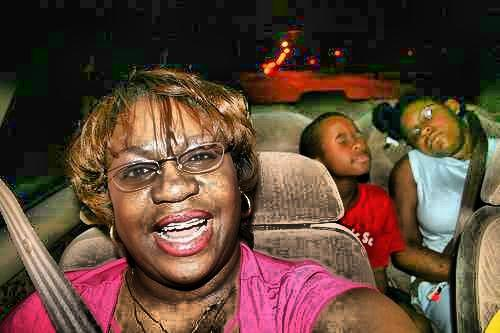seatbelt: (7, 170, 97, 323)
